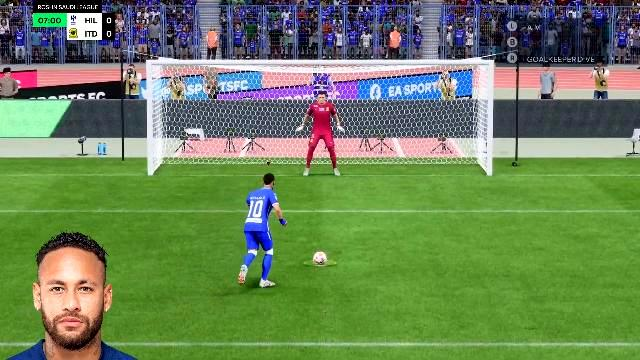bottom-left: (157, 132, 263, 180)
bottom-right: (376, 130, 482, 178)
center-down: (266, 132, 374, 180)
center-up: (265, 71, 373, 130)
circle: (303, 258, 337, 266)
football: (313, 251, 327, 263)
goalkeeper: (302, 107, 342, 181)
player: (230, 172, 290, 288)
top-left: (158, 70, 264, 130)
top-right: (374, 72, 482, 128)
